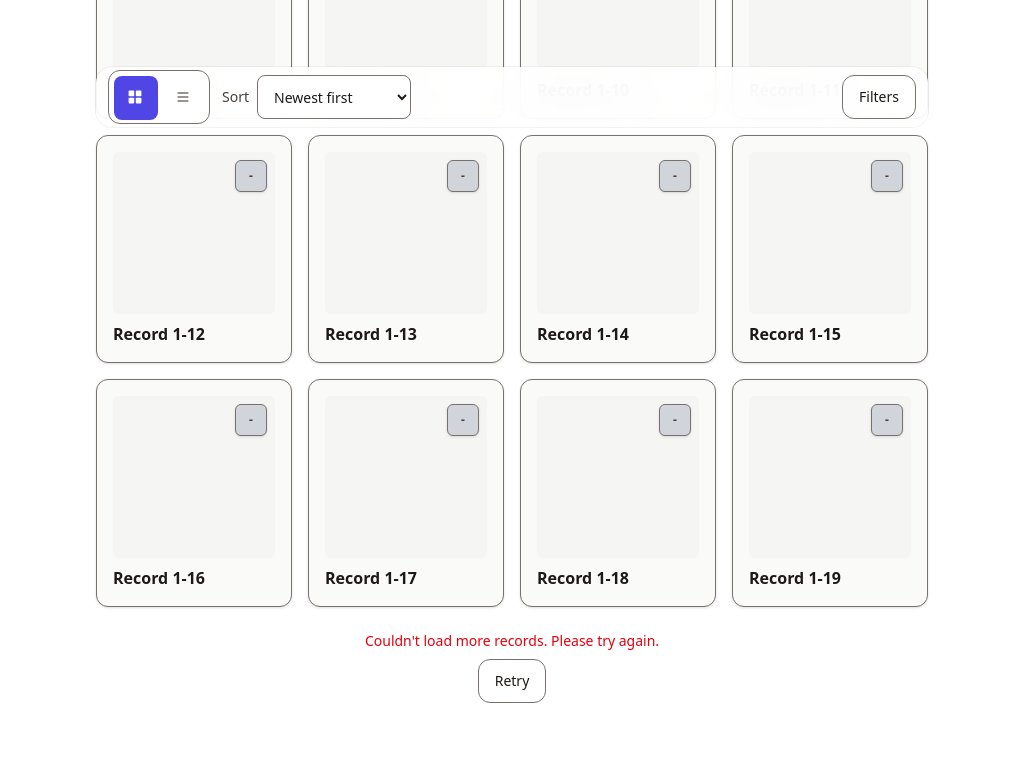
Test case: Infinite scroll on the library (feature 068, US2) › keeps the loaded records and pauses on a failed batch until Retry (AS4, FR-013)
(page scrolled)
Expected: the message "Couldn't load more records. Please try again." is shown, [365,631,659,651]
What coordinates should you click on to do the following:
click the button "Retry"
I would click on:
 (512, 681)
Its box is [478,659,546,703].
(page scrolled)
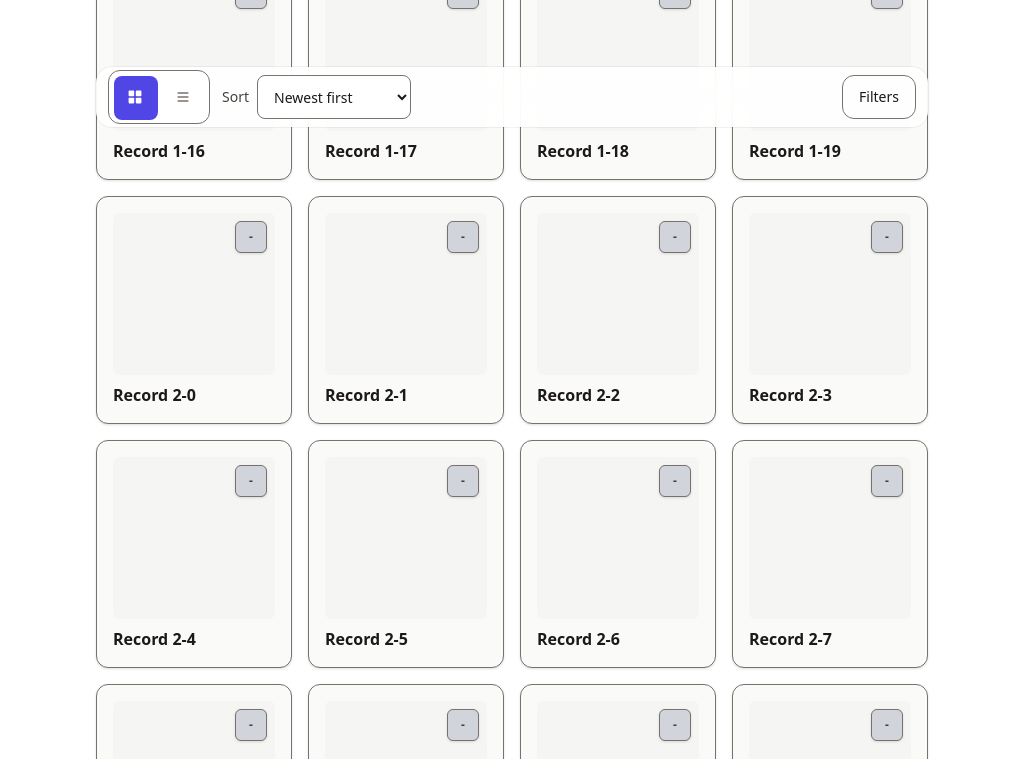
Expected: the text "Record 2-0" is shown, [113,384,196,406]
